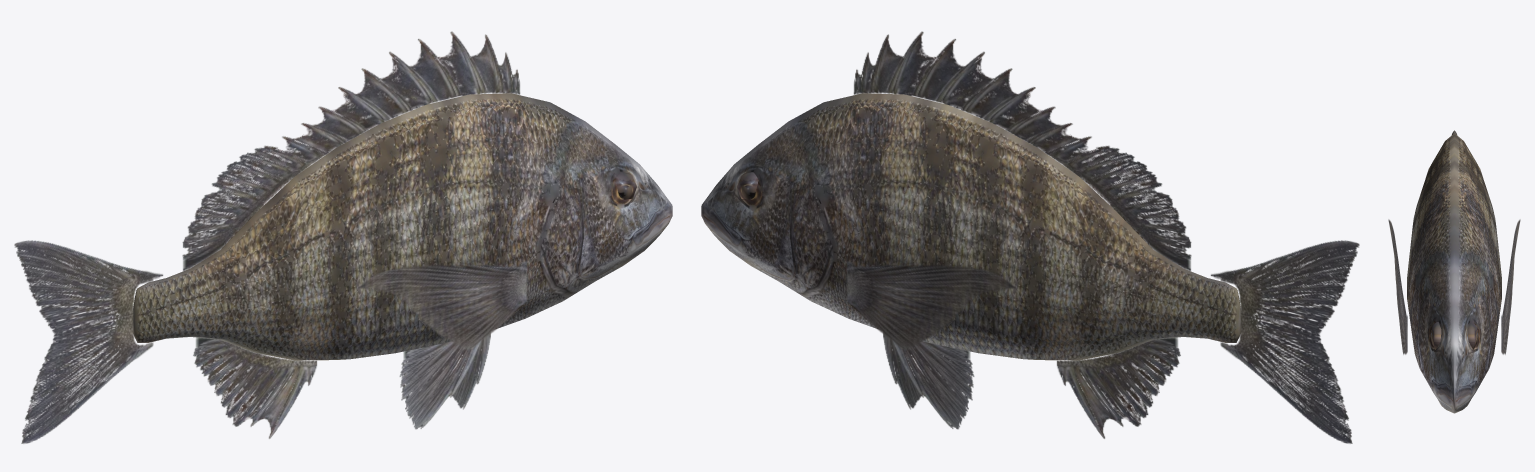
File: kurodai_lo.glb
3 renders of one model, left to right at view 1: azimuth 30°, elevation 25°; view 2: azimuth 150°, elevation 25°; view 3: azimuth 270°, elevation 25°, orthographic. The views are drawn at different scales.
Parts seen in each view (by area): view 1: kurodai; view 2: kurodai; view 3: kurodai.
Boxes of the visible parts, x1=… form: kurodai: x1=14, y1=31, x2=672, y2=443; kurodai: x1=701, y1=31, x2=1359, y2=443; kurodai: x1=1388, y1=130, x2=1520, y2=413.
Bounding box in the file's own units: 0.4006 × 0.2273 × 0.0814.
1 material, 1 textured.
